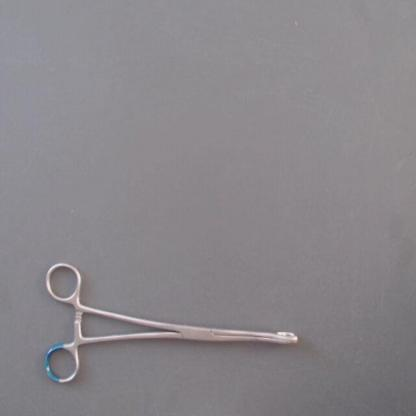Sponge Forceps: (36, 257, 304, 395)
